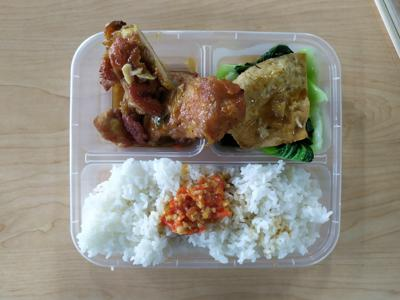rice: (80, 159, 341, 259)
